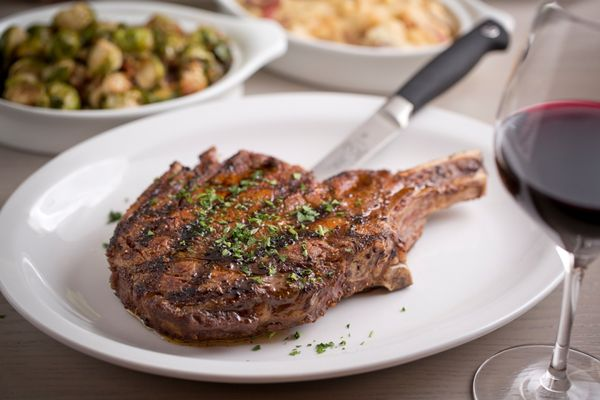sandwich: (311, 16, 511, 179)
sushi: (0, 0, 290, 156)
